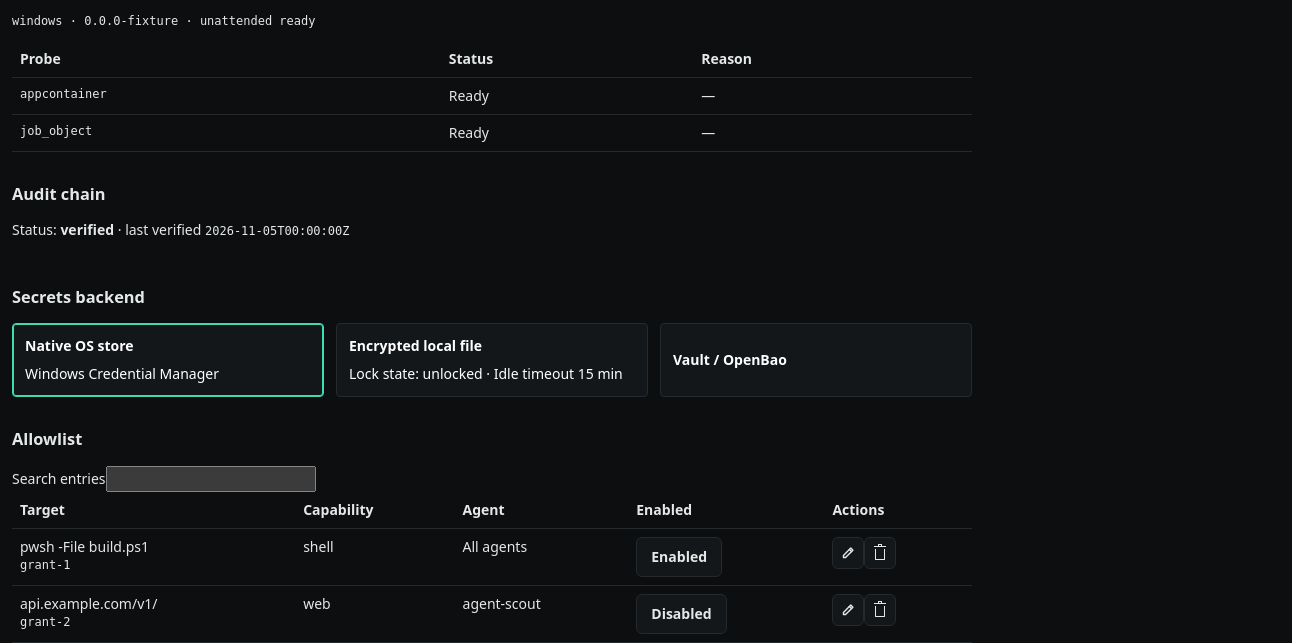
Test: SecuritySettingsPage › filters allowlist rows via search
(page scrolled)
Type "build.ps1" into the search field with test id "allowlist-search" at (211, 479), box [106, 466, 316, 492]
(page scrolled)
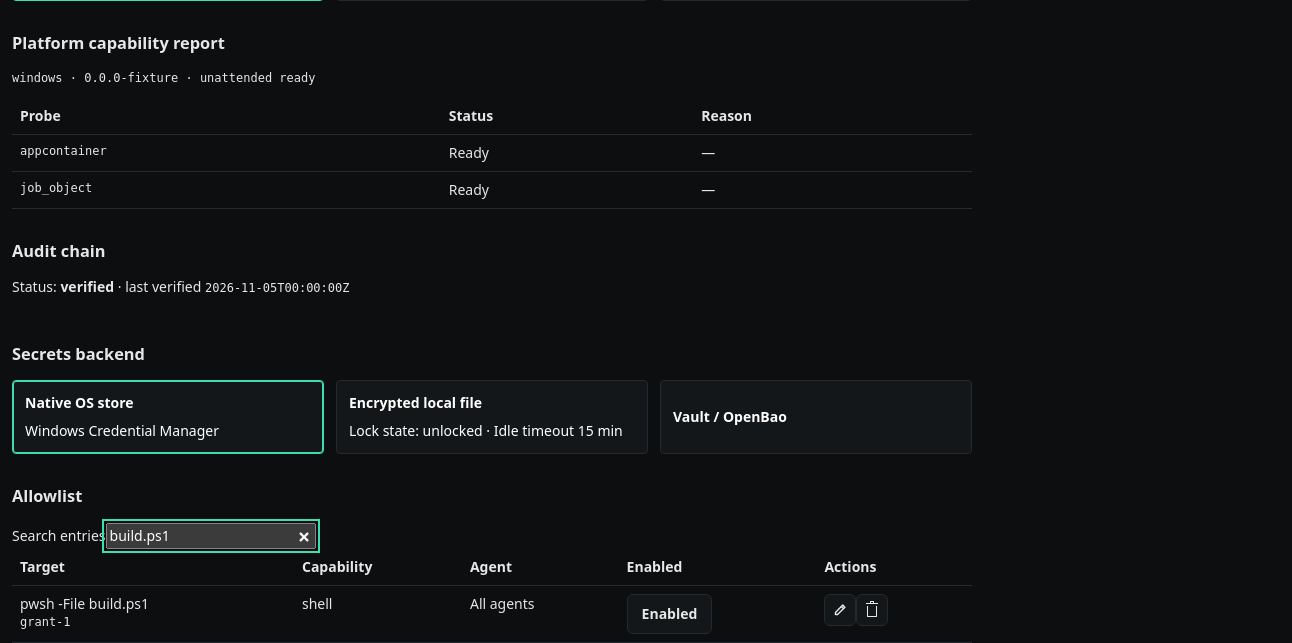
Expected: the row with test id "allowlist-row-grant-1" is shown, [12, 585, 972, 642]
Expected: the row with test id "allowlist-row-grant-2" is gone
